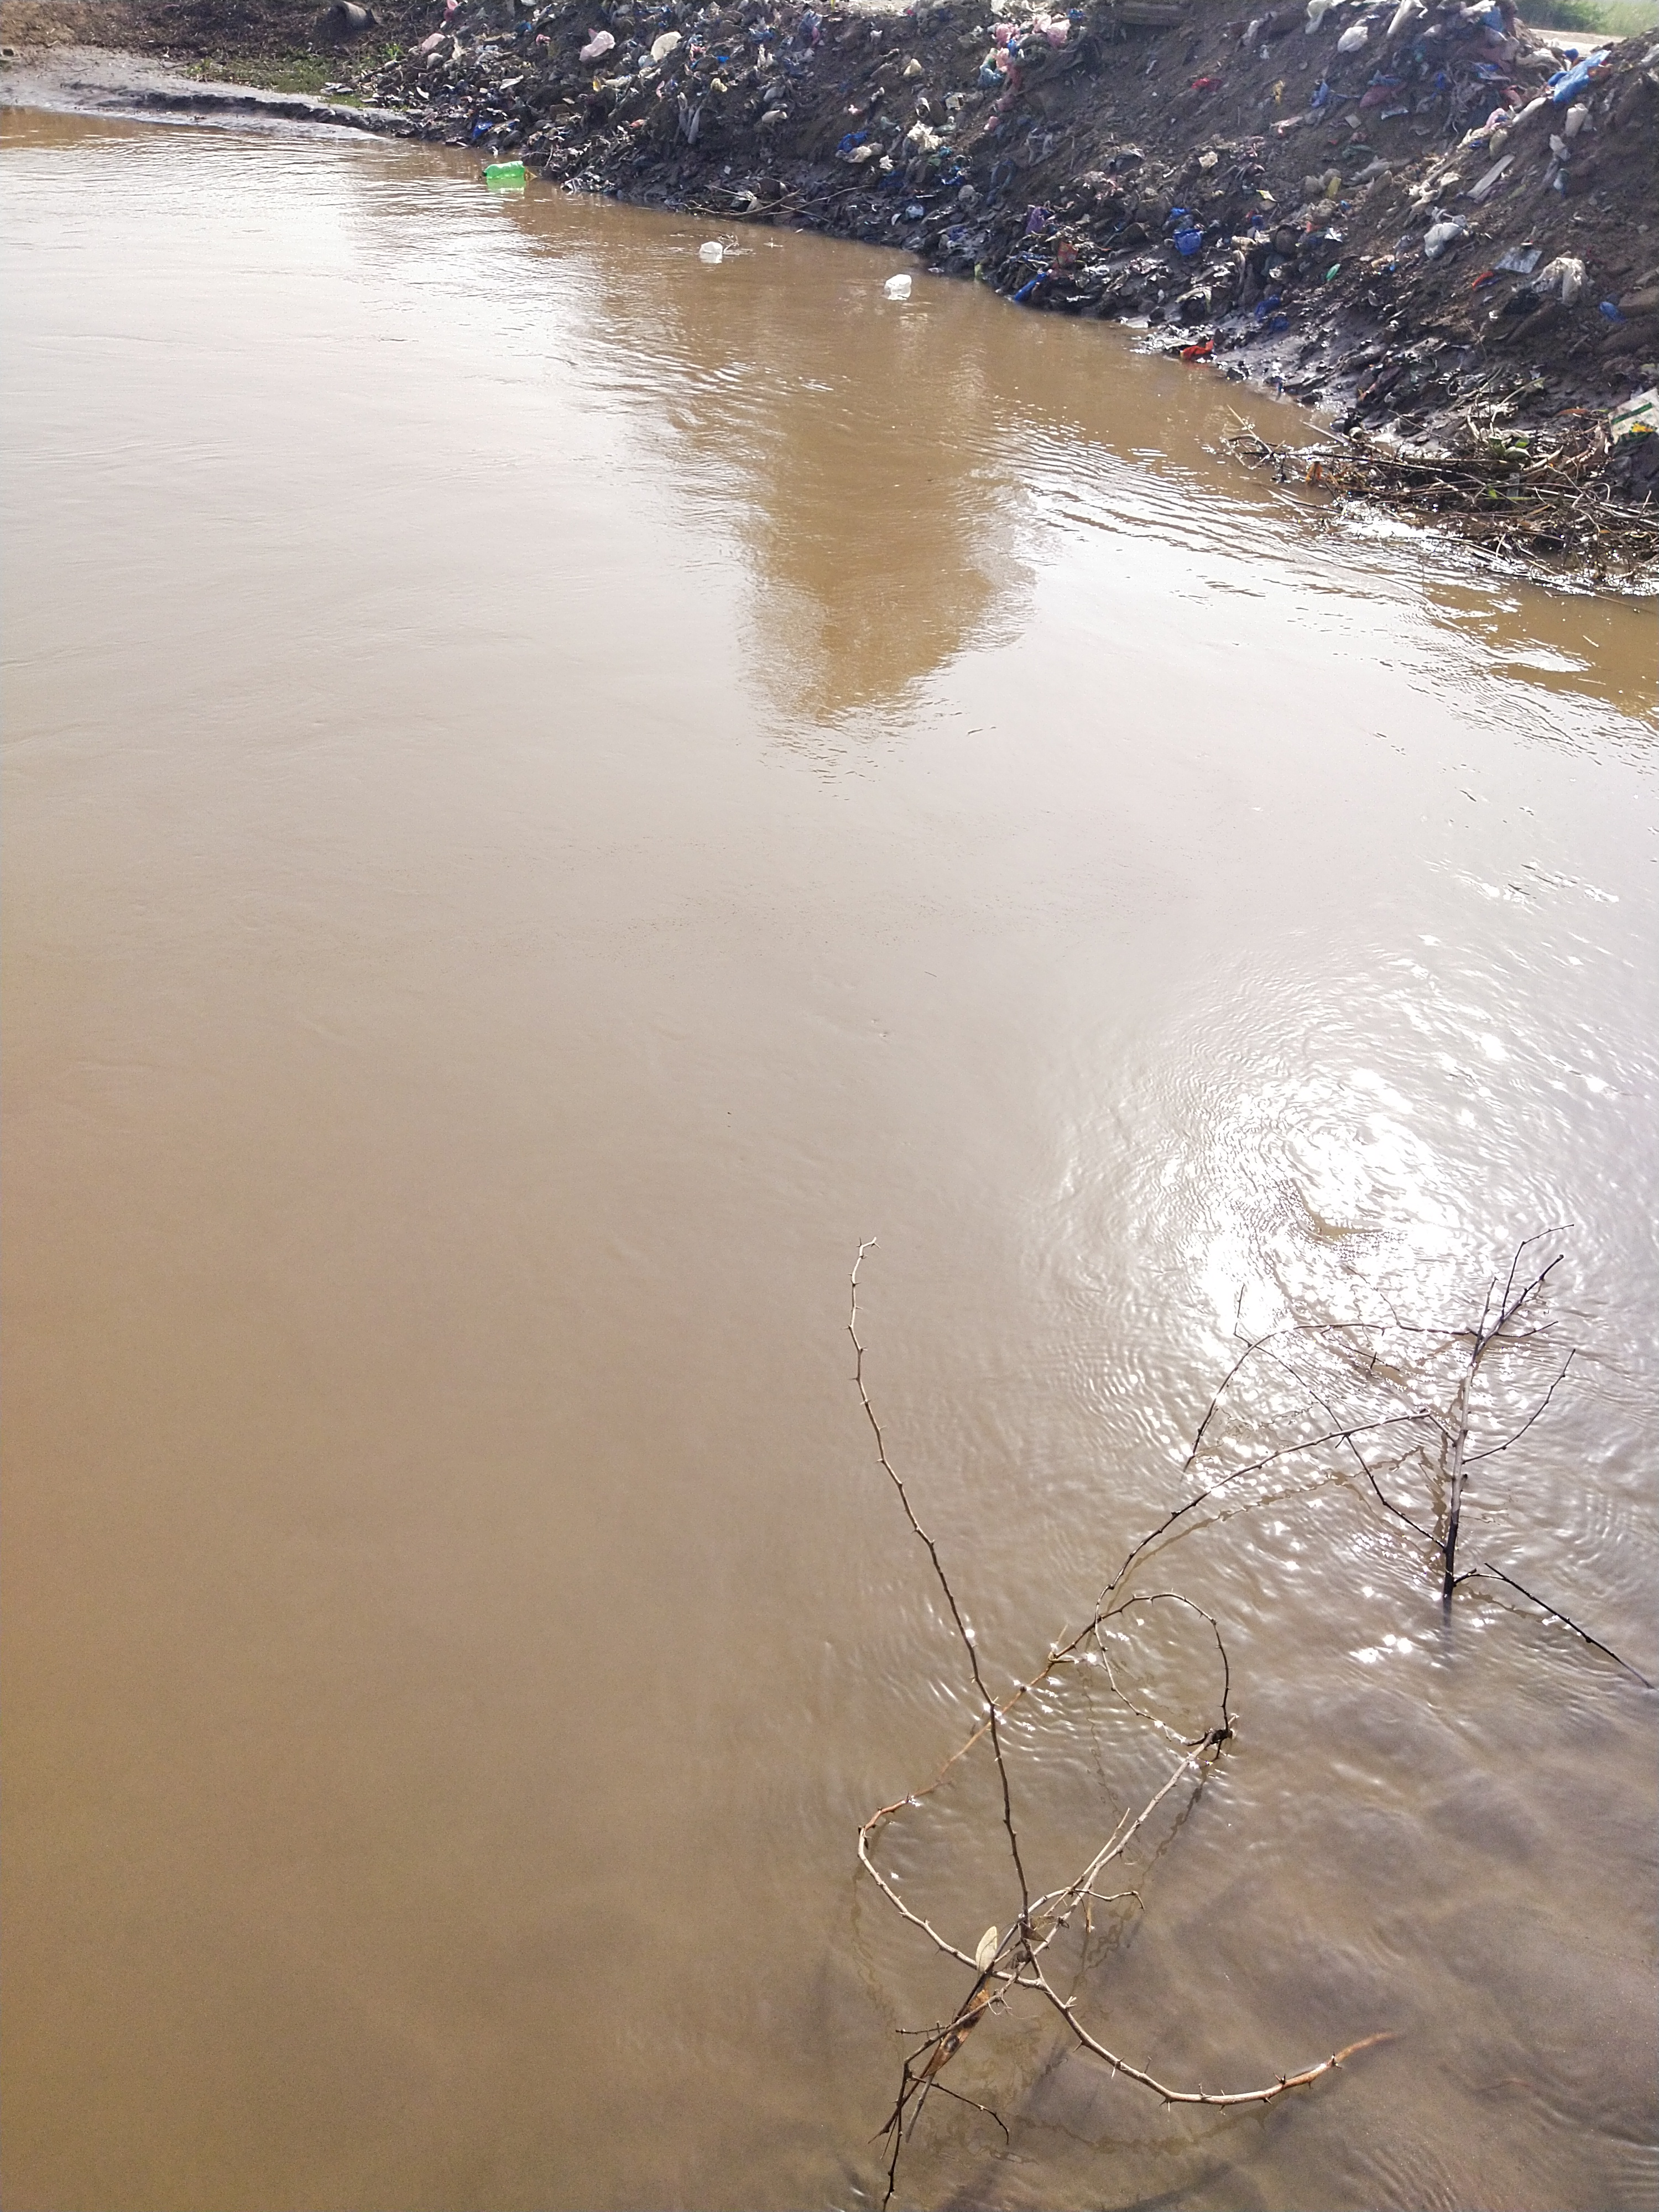Plastic Bottle: (481, 160, 526, 179), (882, 273, 911, 293)
